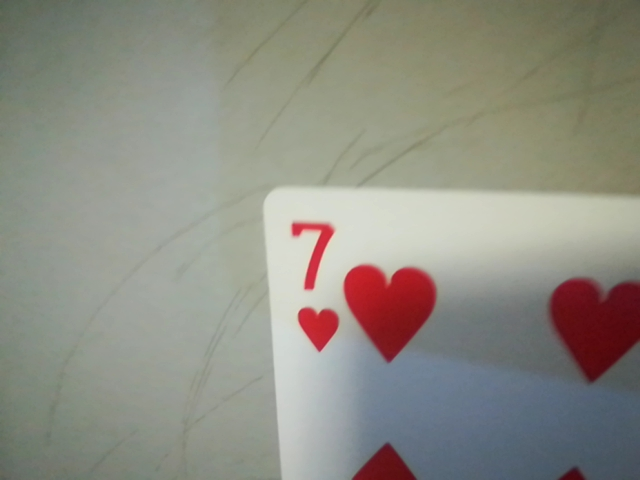hx 7: (278, 207, 347, 362)
